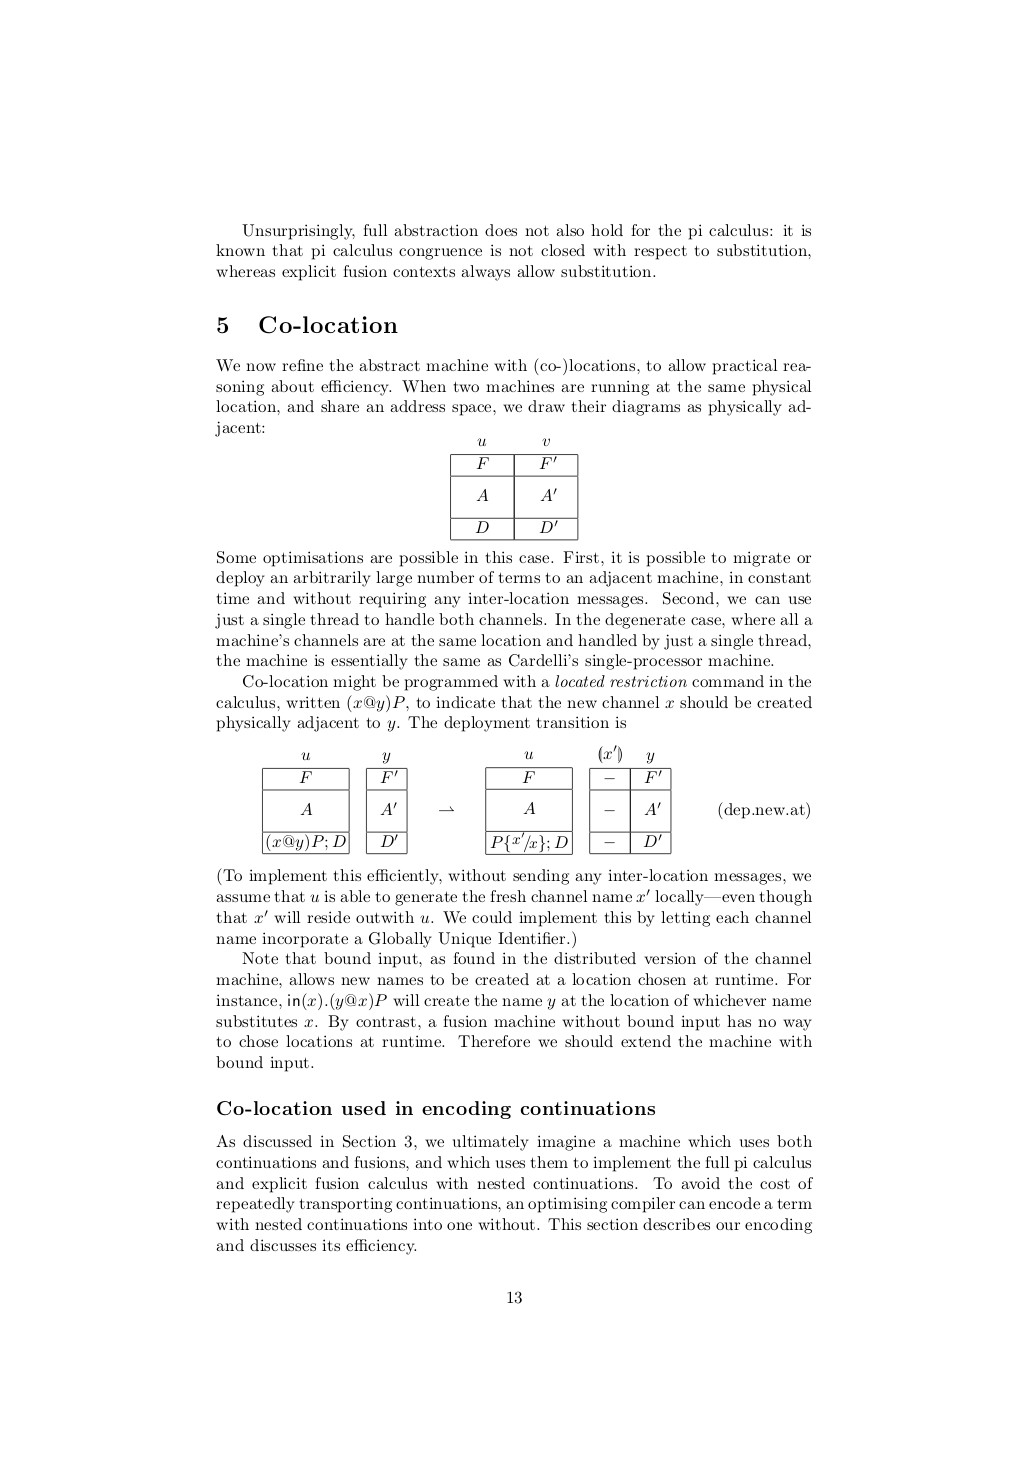Table: (450, 452, 578, 541)
figure: (262, 744, 809, 856)
